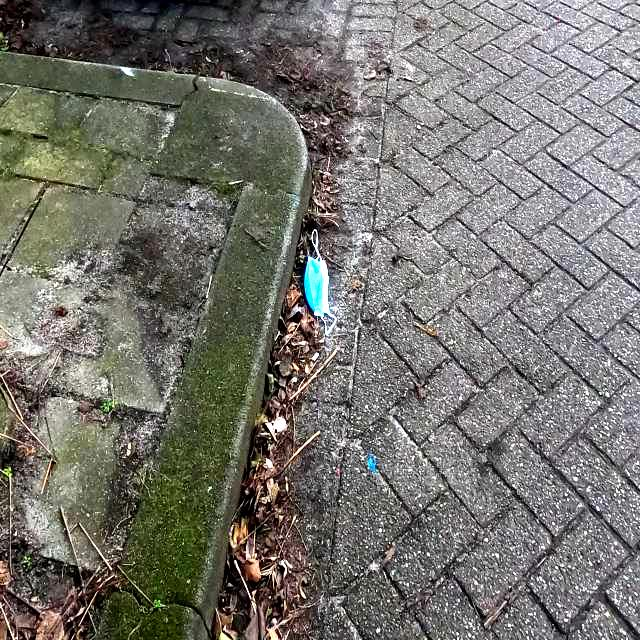Mask: (300, 226, 338, 338)
